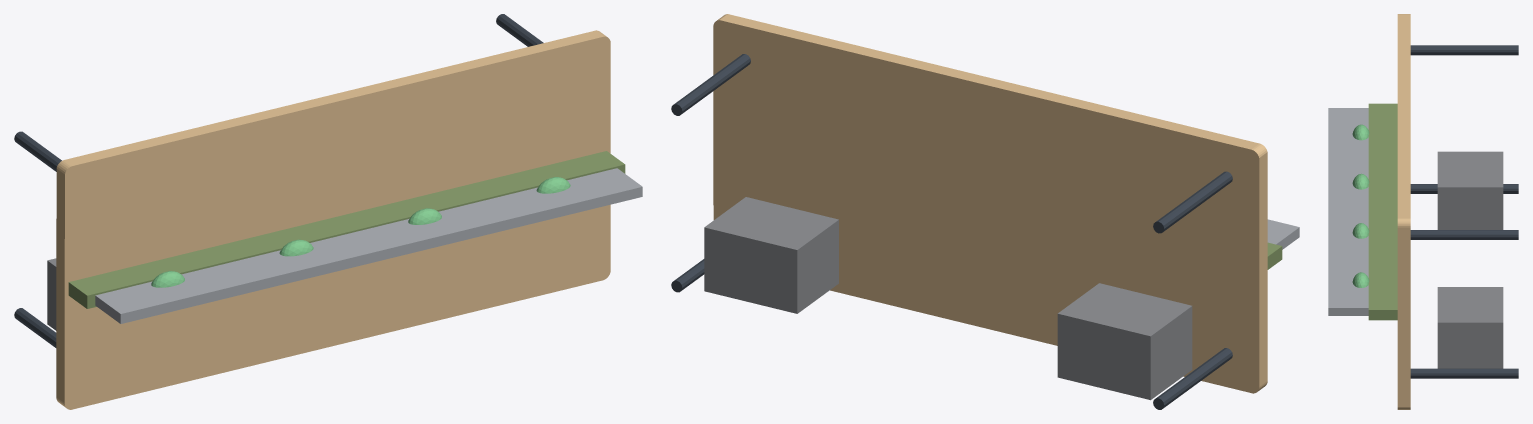
The model's file is DESK_BENCH_4P_HERO_001.glb.
The picture shows the model from 3 angles, left to right: view 1: azimuth 30°, elevation 25°; view 2: azimuth 150°, elevation 25°; view 3: azimuth 270°, elevation 25°; orthographic projection. The views are drawn at different scales.
Parts seen in each view (by area): view 1: bench_top_hero_000, center_privacy_panel_001, planter_divider_box_002, cabinet_011, leg_008, leg_007, leg_010; view 2: bench_top_hero_000, cabinet_011, cabinet_012, leg_008, leg_010, leg_007, center_privacy_panel_001; view 3: center_privacy_panel_001, planter_divider_box_002, bench_top_hero_000, cabinet_012, cabinet_011, leg_008, leg_009, leg_010, leg_007, desk_plant_003, desk_plant_005, desk_plant_004 (+1 smaller).
Part boxes in pixels (left/top/right/bottom): bench_top_hero_000: left=56, top=30, right=610, bottom=409; center_privacy_panel_001: left=95, top=168, right=642, bottom=323; planter_divider_box_002: left=68, top=151, right=625, bottom=308; cabinet_011: left=47, top=258, right=56, bottom=330; leg_008: left=14, top=131, right=61, bottom=171; leg_007: left=14, top=308, right=56, bottom=347; leg_010: left=496, top=14, right=543, bottom=46; bench_top_hero_000: left=713, top=14, right=1267, bottom=393; cabinet_011: left=1057, top=283, right=1192, bottom=400; cabinet_012: left=704, top=197, right=838, bottom=313; leg_008: left=1153, top=171, right=1232, bottom=233; leg_010: left=671, top=54, right=750, bottom=115; leg_007: left=1153, top=348, right=1232, bottom=409; center_privacy_panel_001: left=1267, top=219, right=1299, bottom=249; center_privacy_panel_001: left=1328, top=108, right=1368, bottom=315; planter_divider_box_002: left=1368, top=103, right=1397, bottom=320; bench_top_hero_000: left=1397, top=14, right=1410, bottom=409; cabinet_012: left=1437, top=287, right=1503, bottom=368; cabinet_011: left=1437, top=151, right=1503, bottom=229; leg_008: left=1410, top=45, right=1518, bottom=55; leg_009: left=1410, top=368, right=1518, bottom=378; leg_010: left=1410, top=230, right=1518, bottom=239; leg_007: left=1410, top=184, right=1518, bottom=193; desk_plant_003: left=1352, top=124, right=1369, bottom=140; desk_plant_005: left=1352, top=223, right=1369, bottom=238; desk_plant_004: left=1352, top=173, right=1369, bottom=189.
Bounding box in the file's own units: 3.4 × 1.45 × 1.3.
